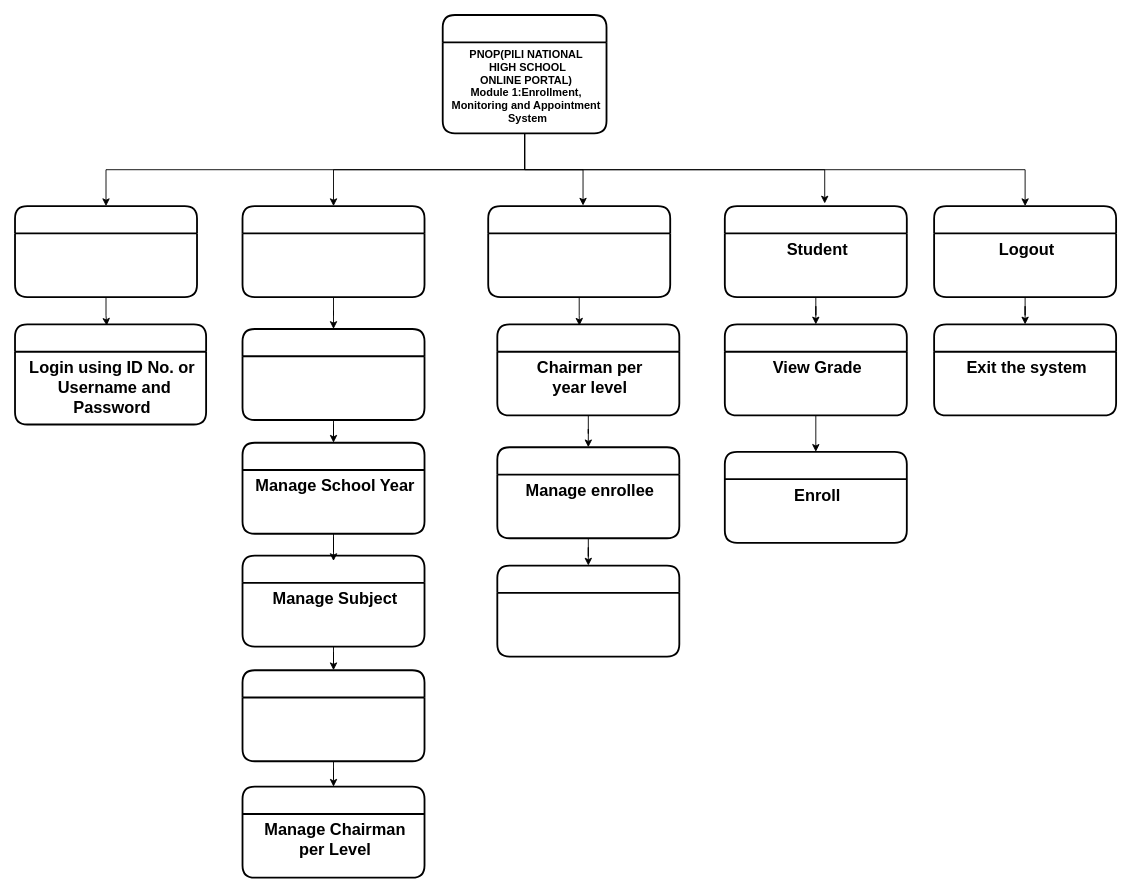
The diagram is 1131 pixels wide and 893 high, and some of its shapes have lost their labels. Each missing label, with the centre of its shape:
"Administrator" goes at point (333, 251).
"Grade student" goes at point (588, 610).
"login" goes at point (105, 251).
"Manage Faculty" goes at point (333, 715).
"Manage Year Level" goes at point (333, 374).
"Teacher" goes at point (579, 251).
